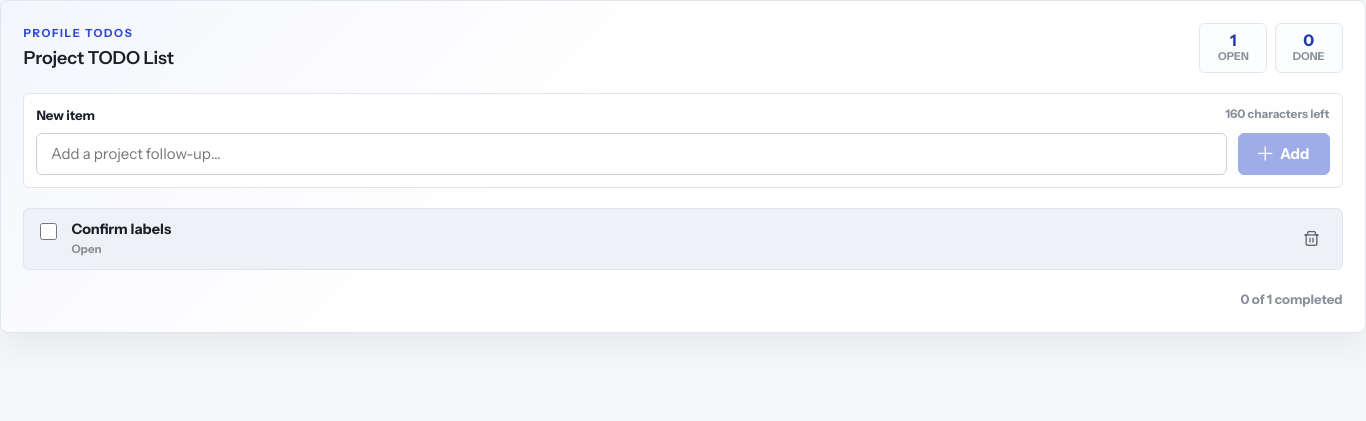
Test: ProjectTodoListComponent › adds, checks, unchecks, and removes items through the API
In the field labelled "New item": (632, 154) [36,133,1227,175], type "Schedule handling review"
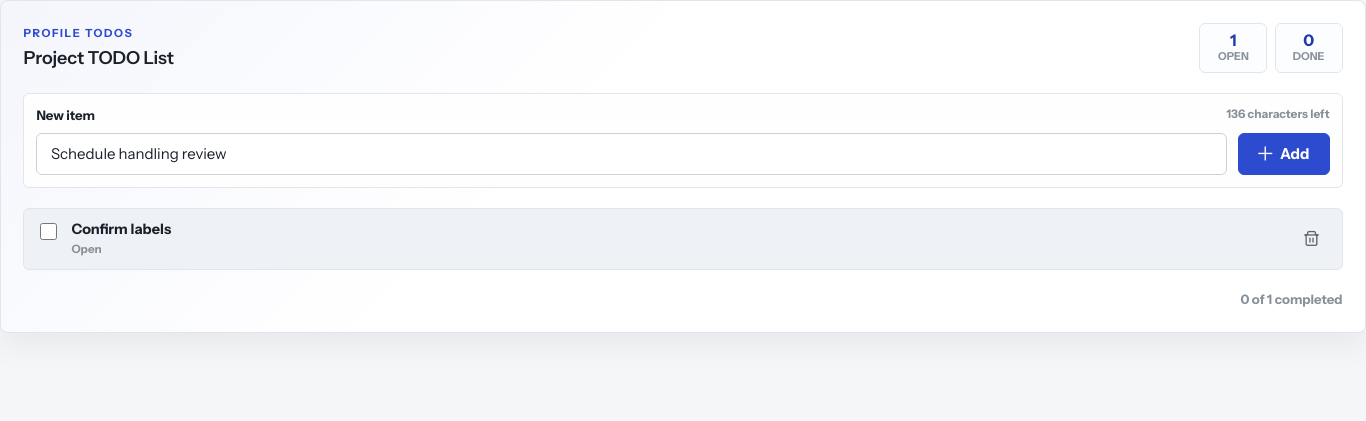
Submit the form, box [23,93,1343,188]
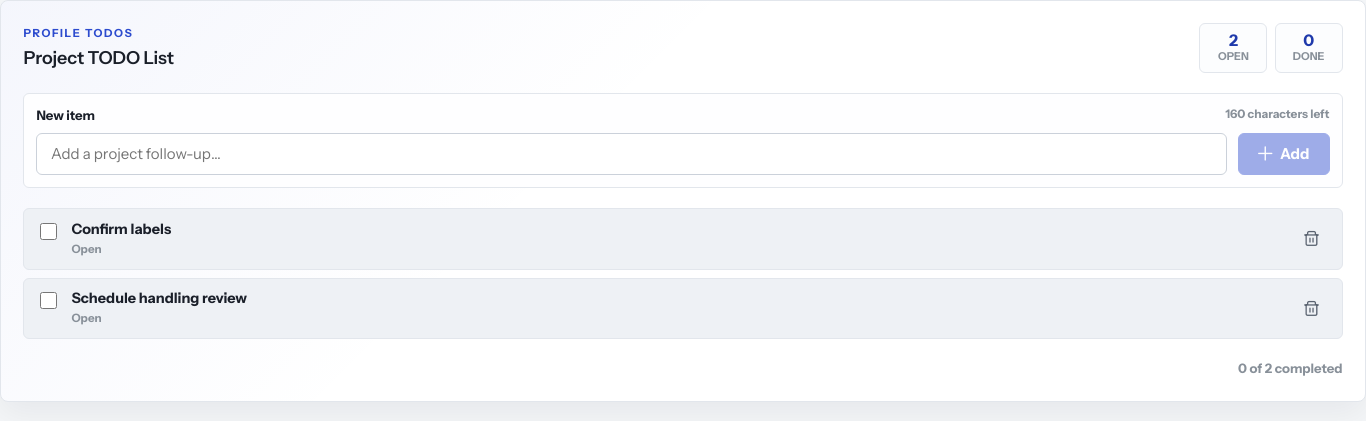
Now the number of list items with class "todo-item" is 2, box [23,208,1343,270]; [23,278,1343,339]
Now the text "Schedule handling review" is shown, box [71,289,247,308]
Click the checkbox labelled "Confirm labels Open": (49, 231) [40,223,57,240]
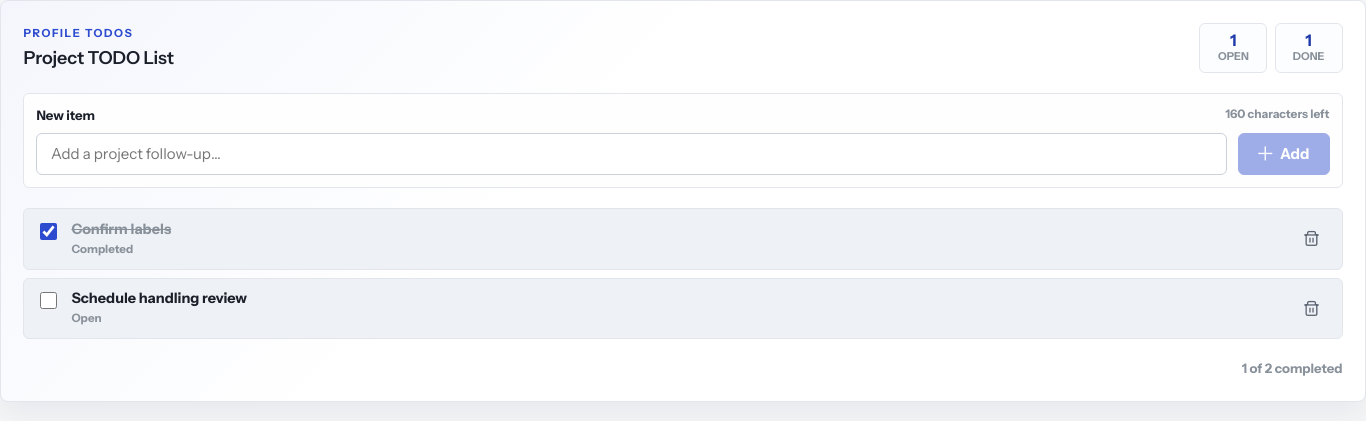
Now the text "1 of 2 completed" is shown, box [1242,359,1343,379]
Click the checkbox labelled "Confirm labels Completed": (49, 231) [40,223,57,240]
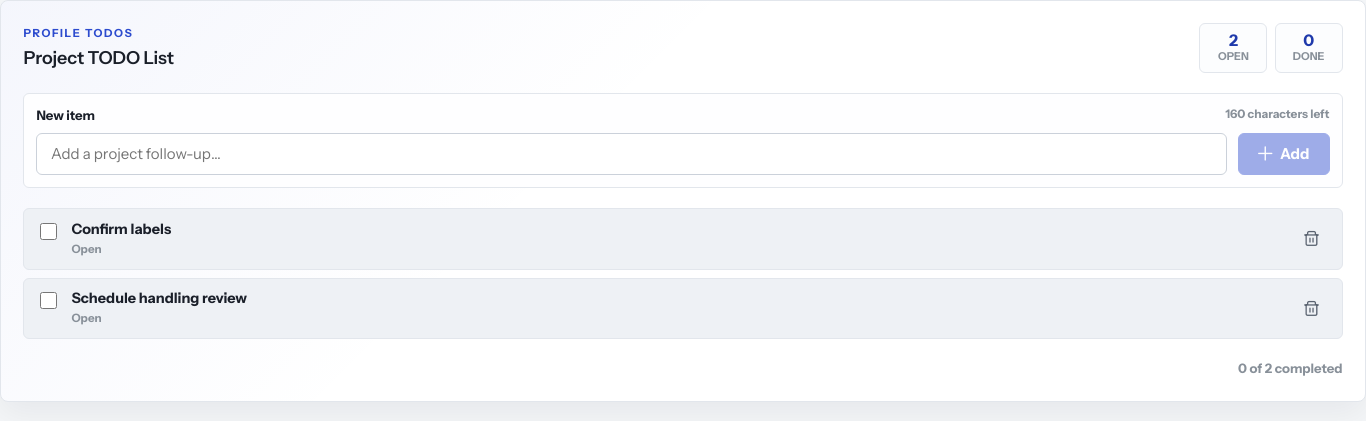
Now the text "0 of 2 completed" is shown, box [1238,359,1343,379]
Click the button named "Remove Schedule handling review": (1312, 308) [1294,290,1330,326]
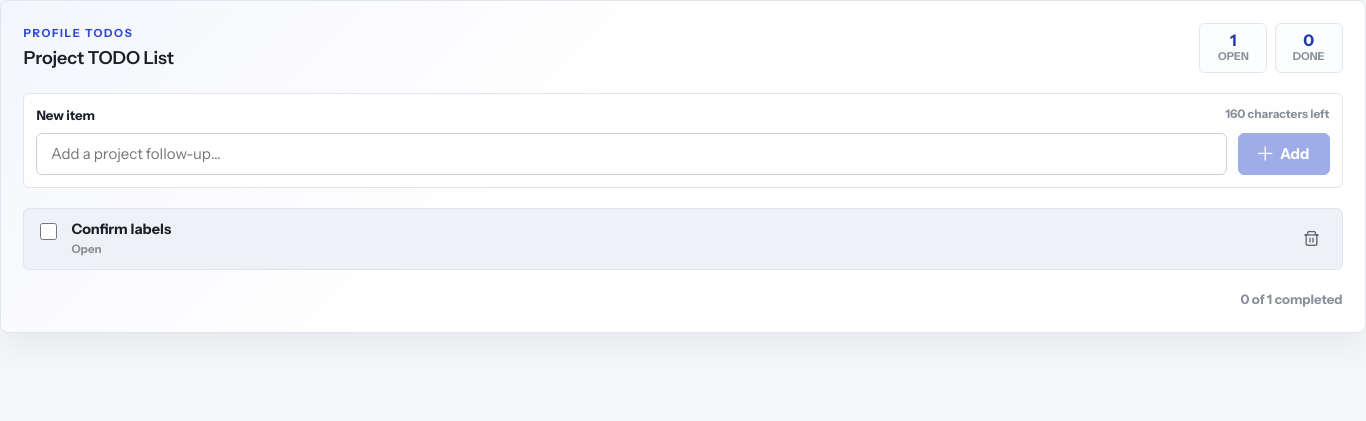
Now the number of list items with class "todo-item" is 1, box [23,208,1343,270]
Now the text "Schedule handling review" is gone
